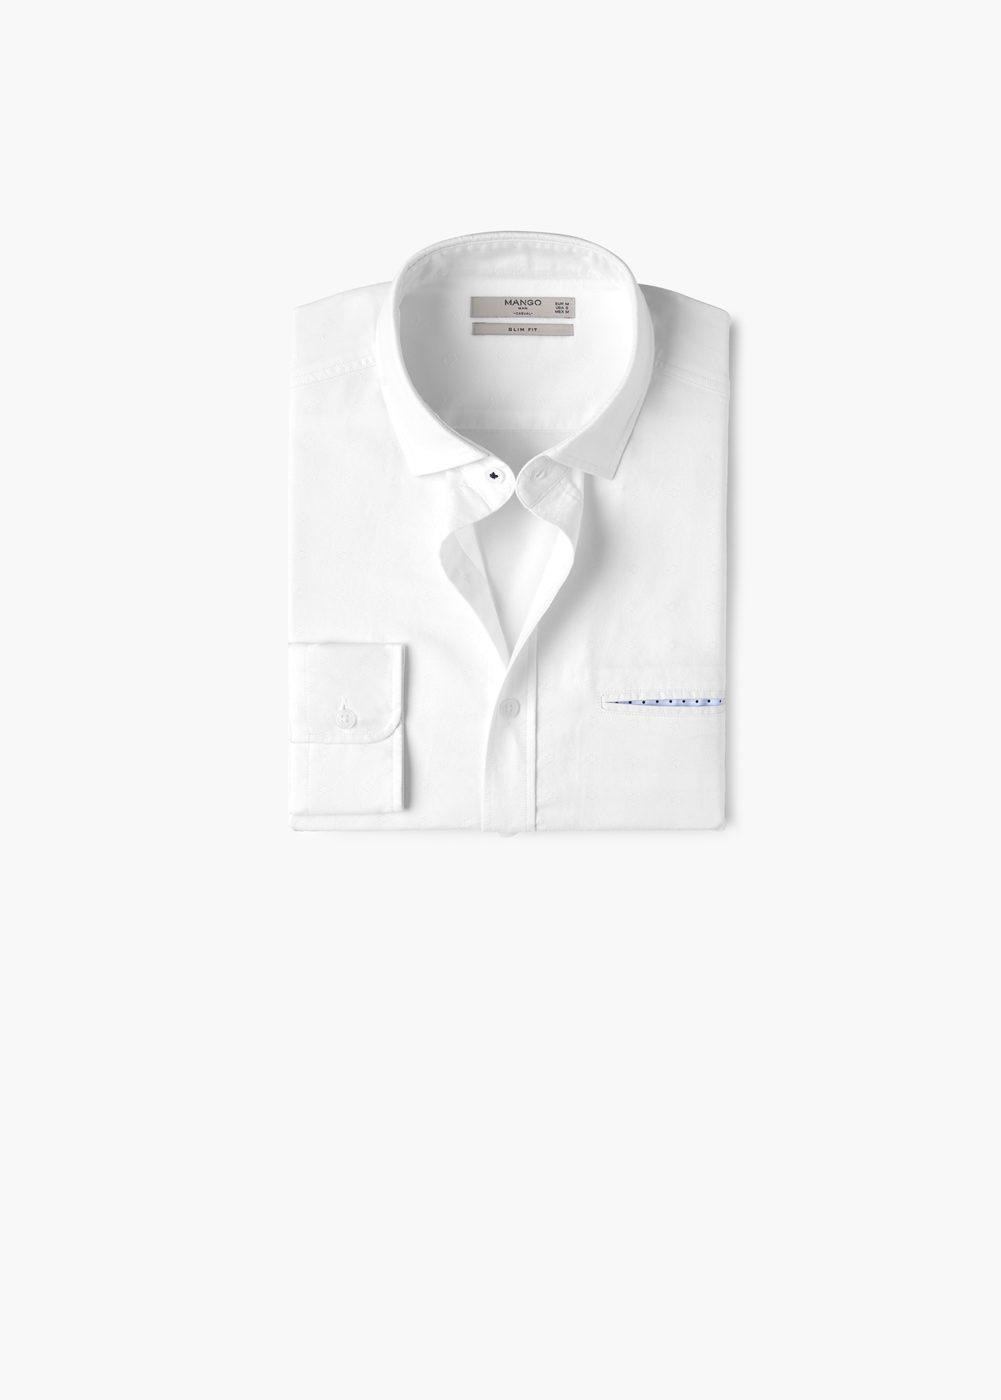teeshirt: (250, 225, 759, 859)
